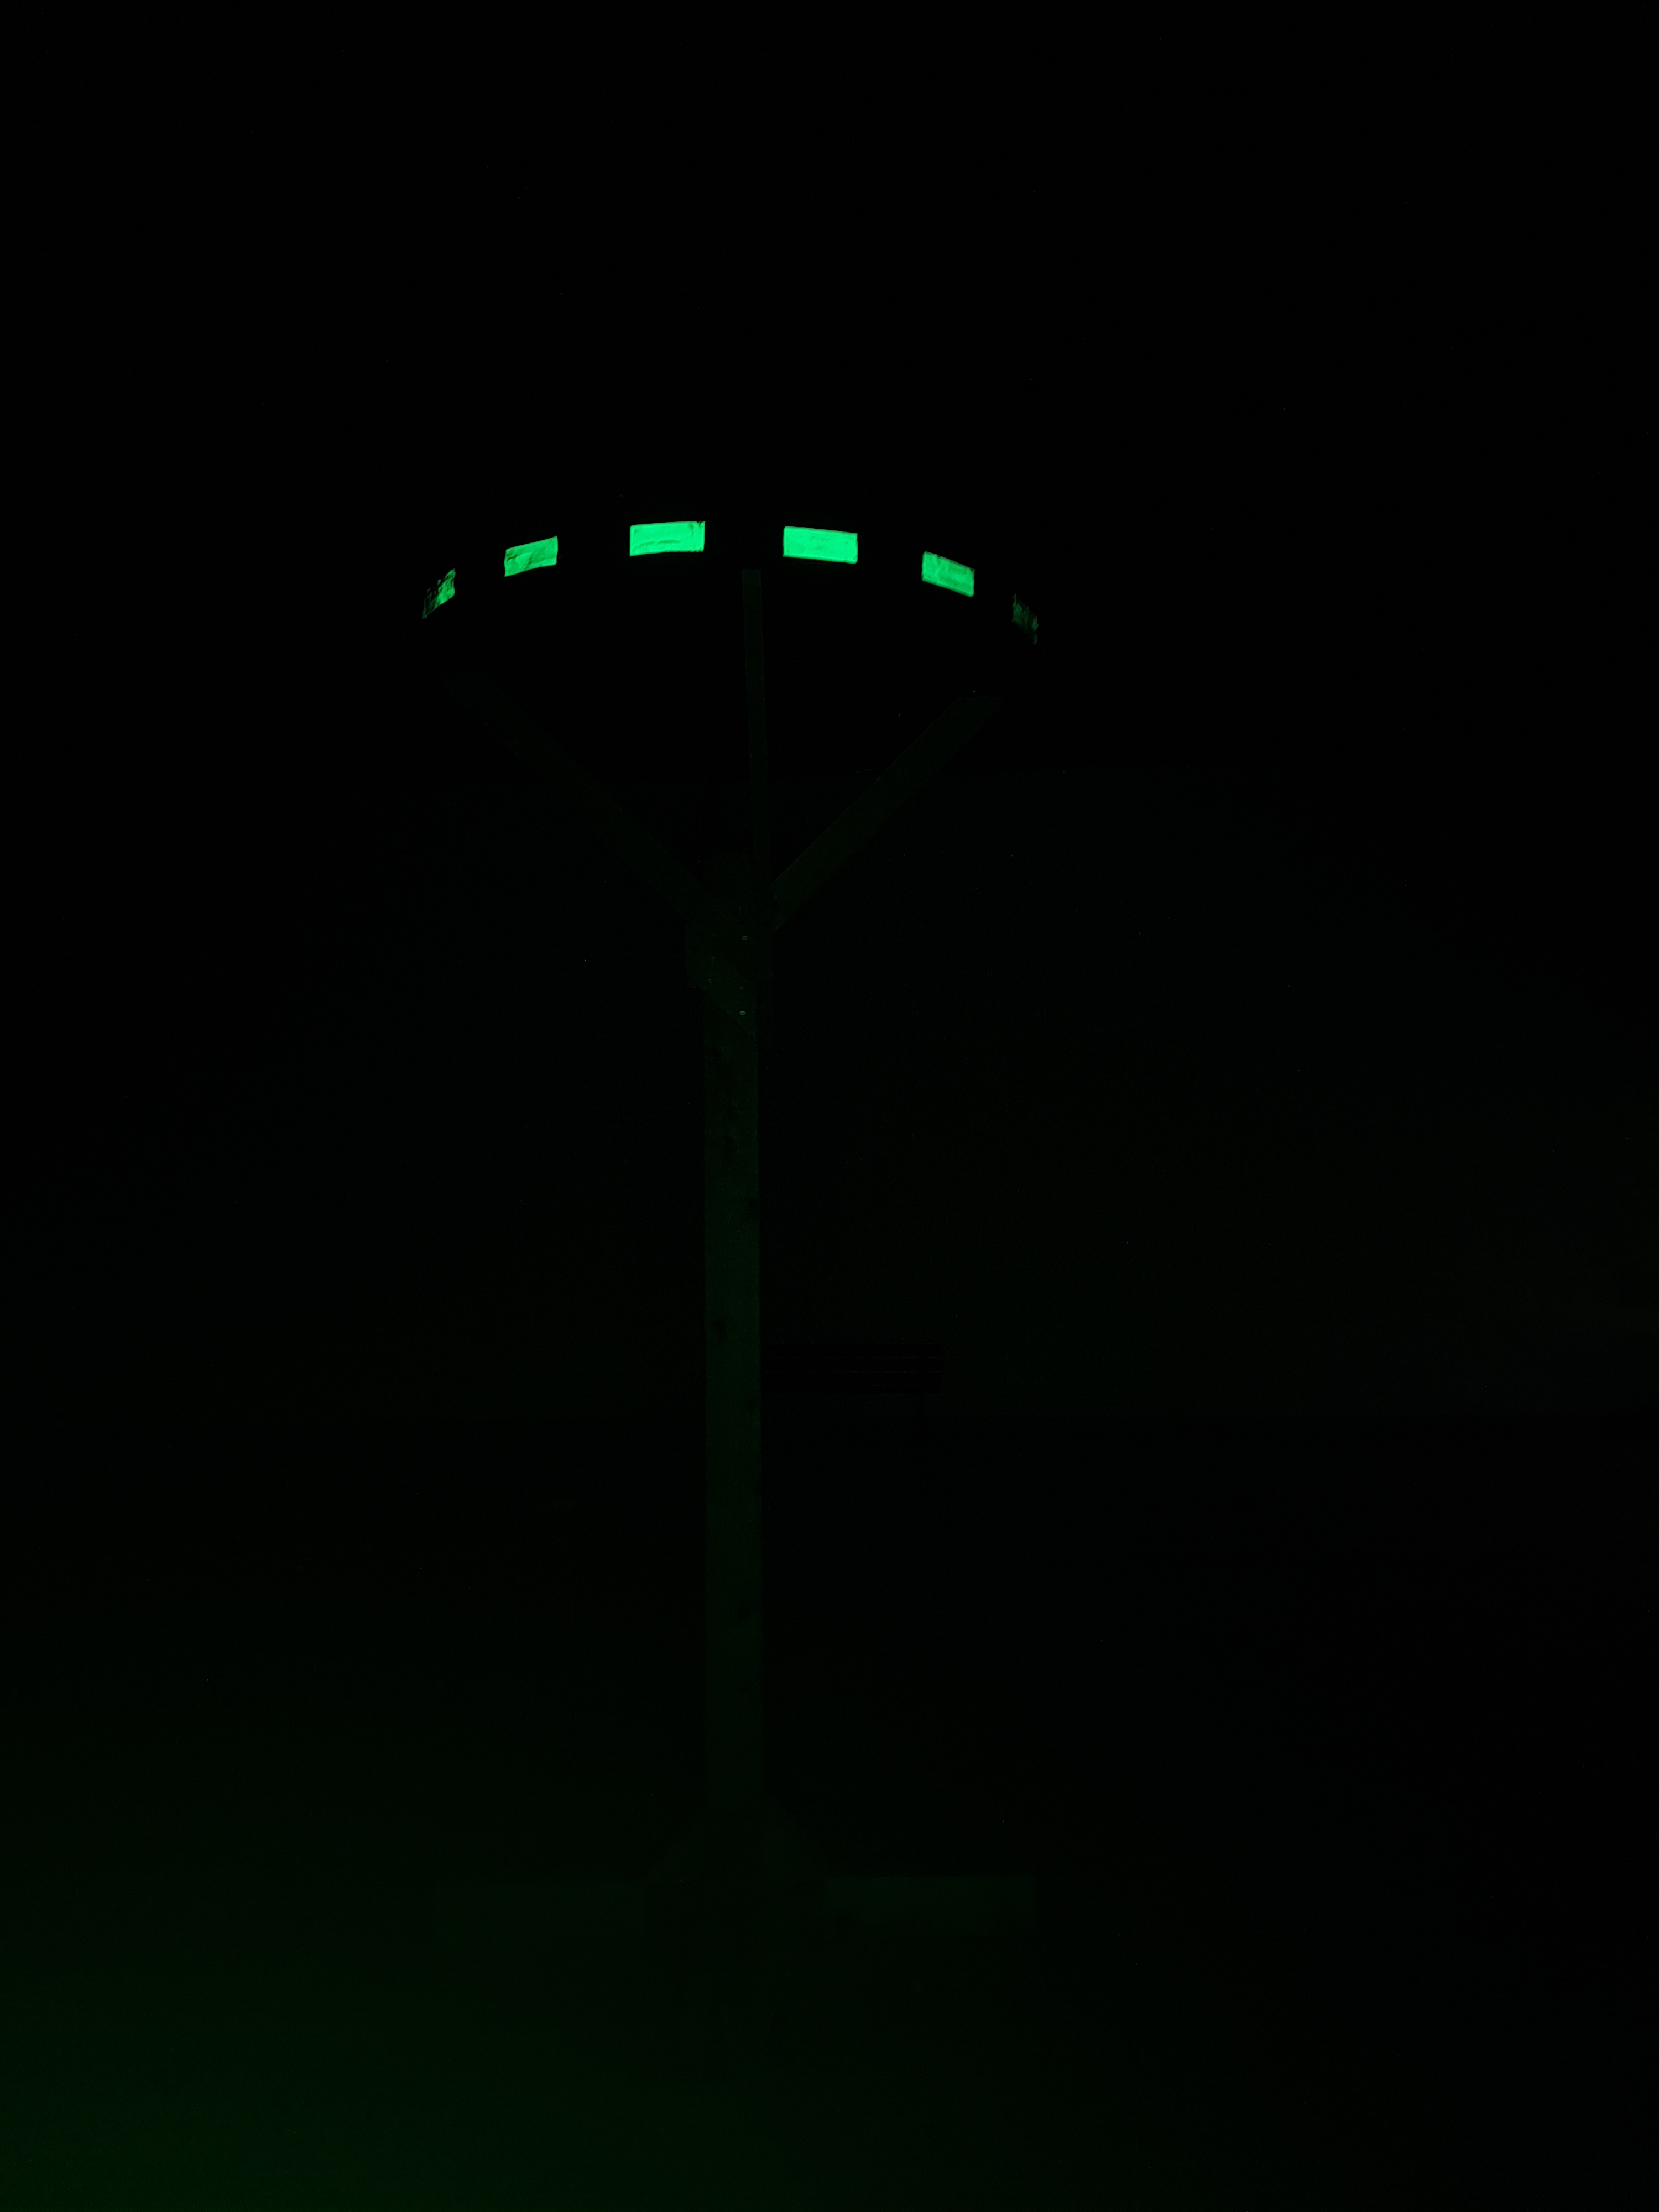hoop: (418, 517, 1042, 646)
